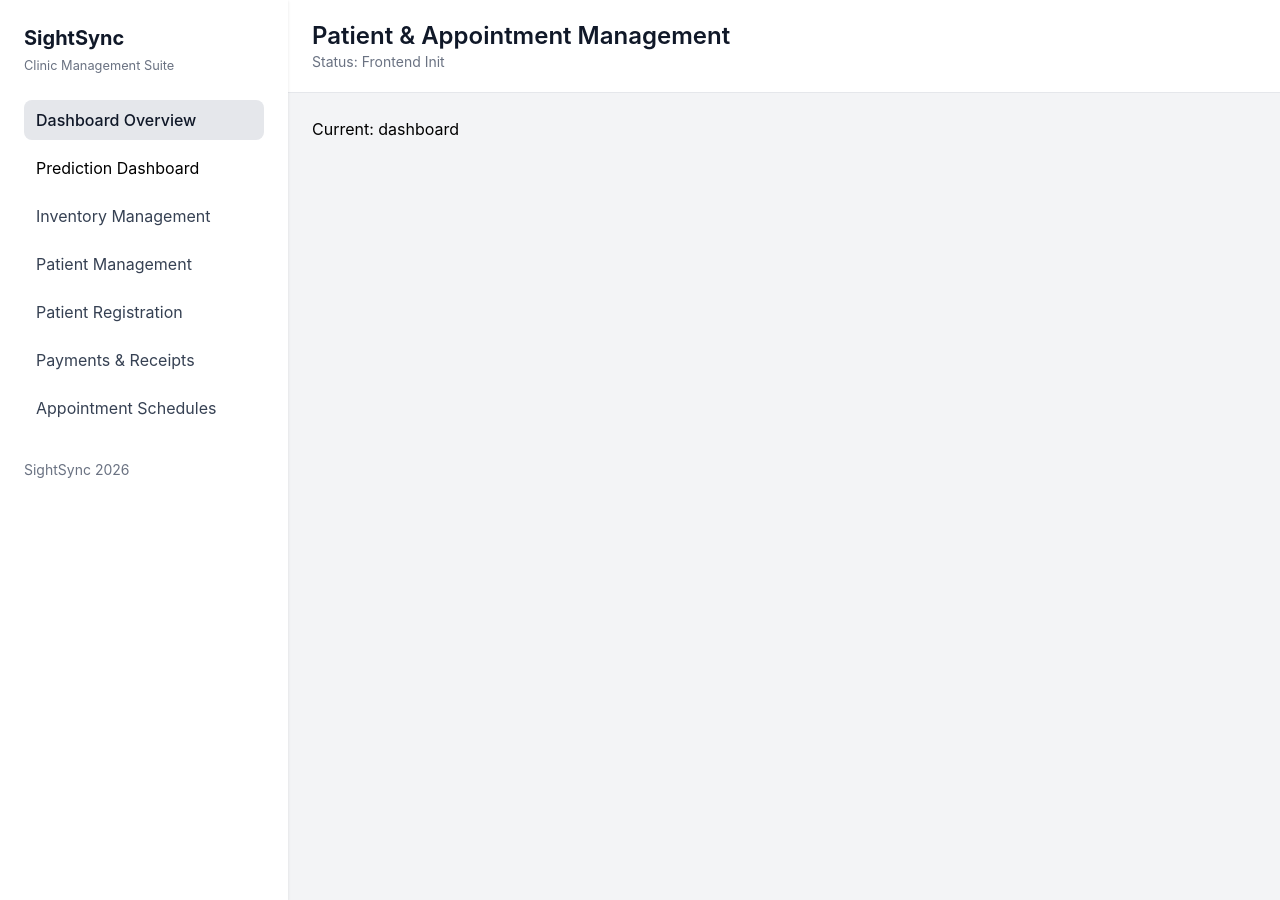
Test: AppLayout Structural Framework › should update the active runtime selection state to "patients" when Patient Management is clicked
Expected: the text with test id "view-state" reads "Current: dashboard", [312, 119, 459, 139]
Click on the patient management option
Click the button "Patient Management": (144, 264) [24, 244, 264, 284]
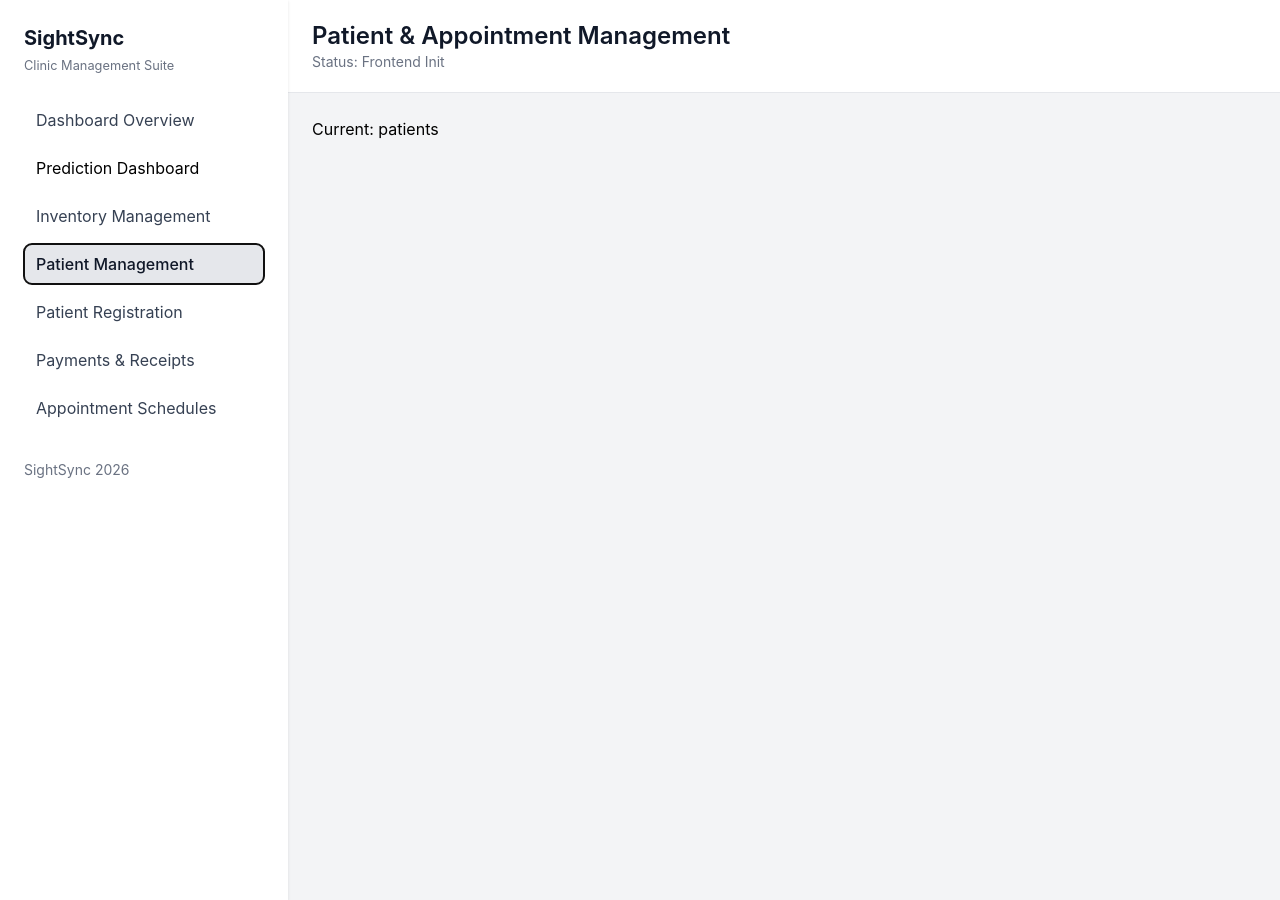
Now the text with test id "view-state" reads "Current: patients", box [312, 119, 439, 139]
